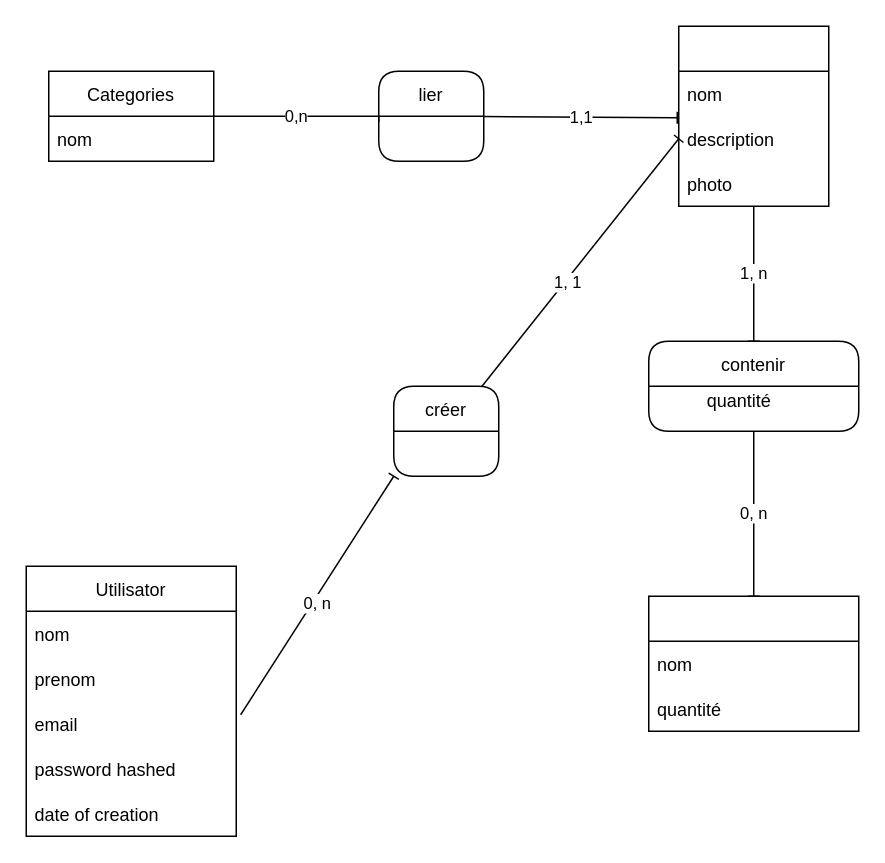
Image size: 885x863. Some labels were removed from this diagram. The box of each missing label's shape, as (x1, y1, x2, y2) in pixels:
Ingredient: (647, 595, 859, 731)
Recettes: (677, 25, 829, 206)
